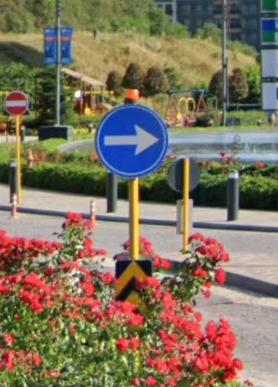turnleft: (94, 105, 171, 180)
